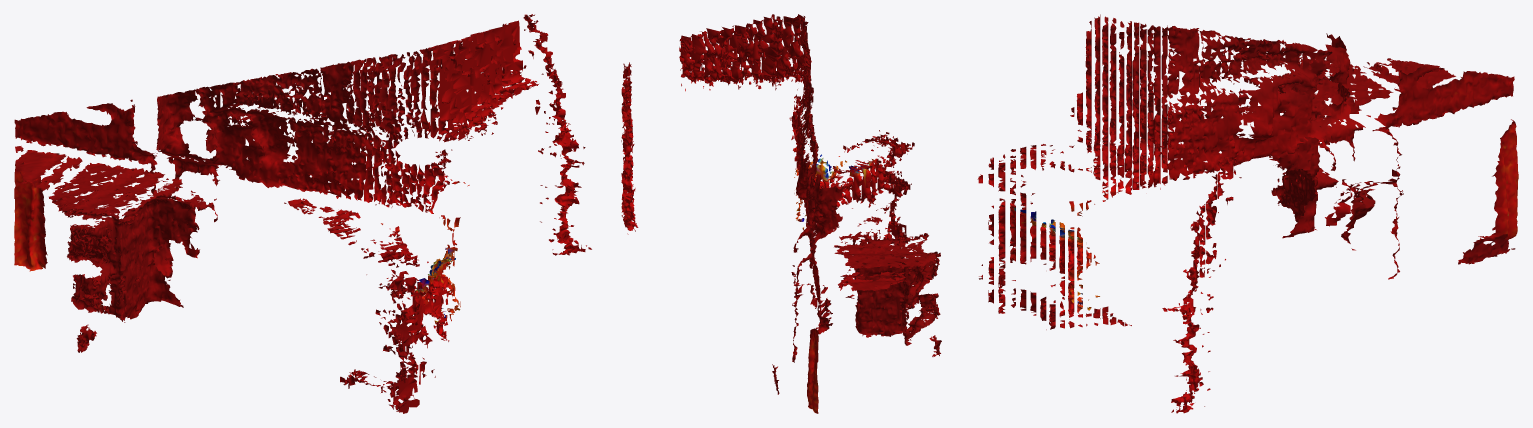
The picture shows the model from 3 angles, left to right: view 1: azimuth 30°, elevation 25°; view 2: azimuth 150°, elevation 25°; view 3: azimuth 270°, elevation 25°; orthographic projection. The views are drawn at different scales.
Size of the model in its own units: 3.63 by 2.4 by 3.46.
